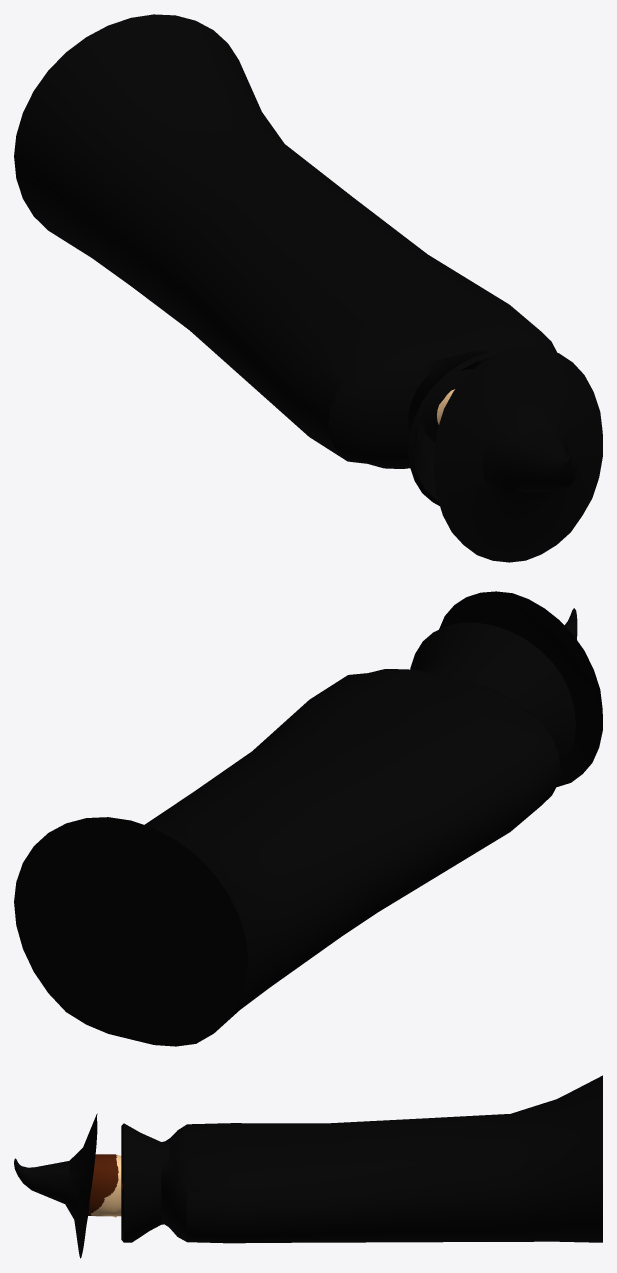
File: wiz.fbx
The picture shows the model from 3 angles, top to bottom: view 1: azimuth 30°, elevation 25°; view 2: azimuth 150°, elevation 25°; view 3: azimuth 270°, elevation 25°; orthographic projection. The views are drawn at different scales.
Parts seen in each view (by area): view 1: Cylinder; view 2: Cylinder; view 3: Cylinder.
Boxes of the visible parts, <box> form: Cylinder: <box>14,14,602,562</box>; Cylinder: <box>14,591,602,1046</box>; Cylinder: <box>14,1075,602,1258</box>.
Size of the model in its own units: 2 by 2.01 by 6.37.
1 material, 1 textured.
